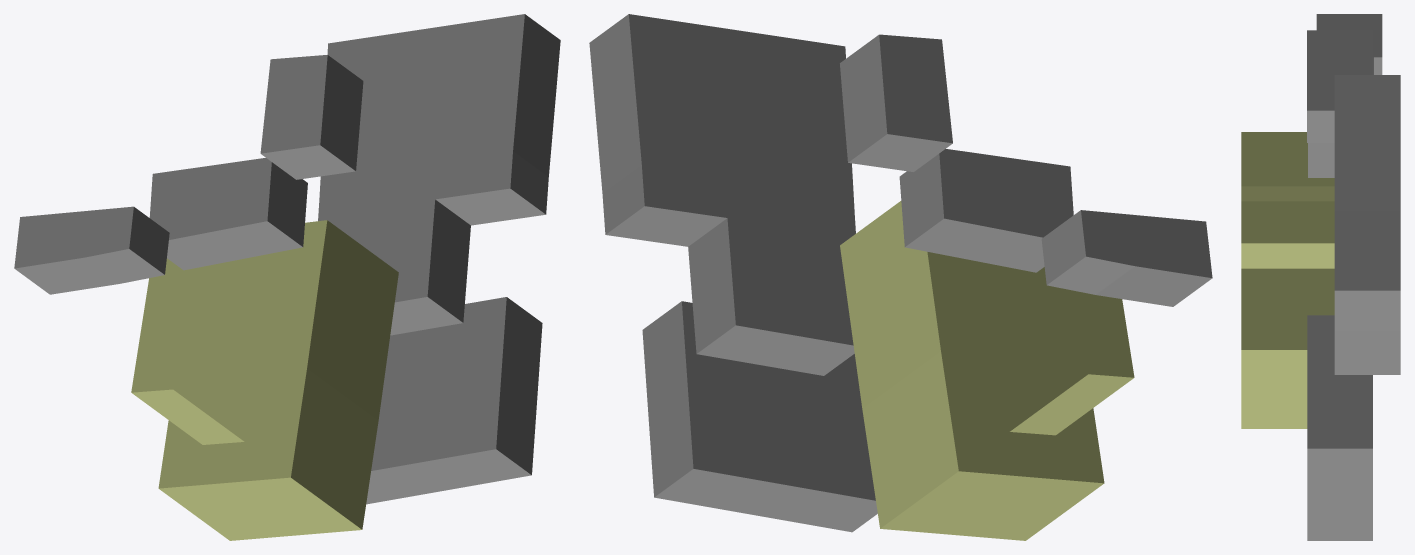
3 renders of one model, left to right at view 1: azimuth 30°, elevation 25°; view 2: azimuth 150°, elevation 25°; view 3: azimuth 270°, elevation 25°, orthographic. The views are drawn at different scales.
Parts seen in each view (by area): view 1: 0_1_2_0_0_2_2_0_0_2; view 2: 0_1_2_0_0_2_2_0_0_2; view 3: 0_1_2_0_0_2_2_0_0_2.
Part boxes in pixels (x1,y1,x2,y2): 0_1_2_0_0_2_2_0_0_2: (14,14,560,540); 0_1_2_0_0_2_2_0_0_2: (589,14,1212,540); 0_1_2_0_0_2_2_0_0_2: (1241,14,1400,540).
Size of the model in its own units: 25.21 by 20.59 by 7.26.
